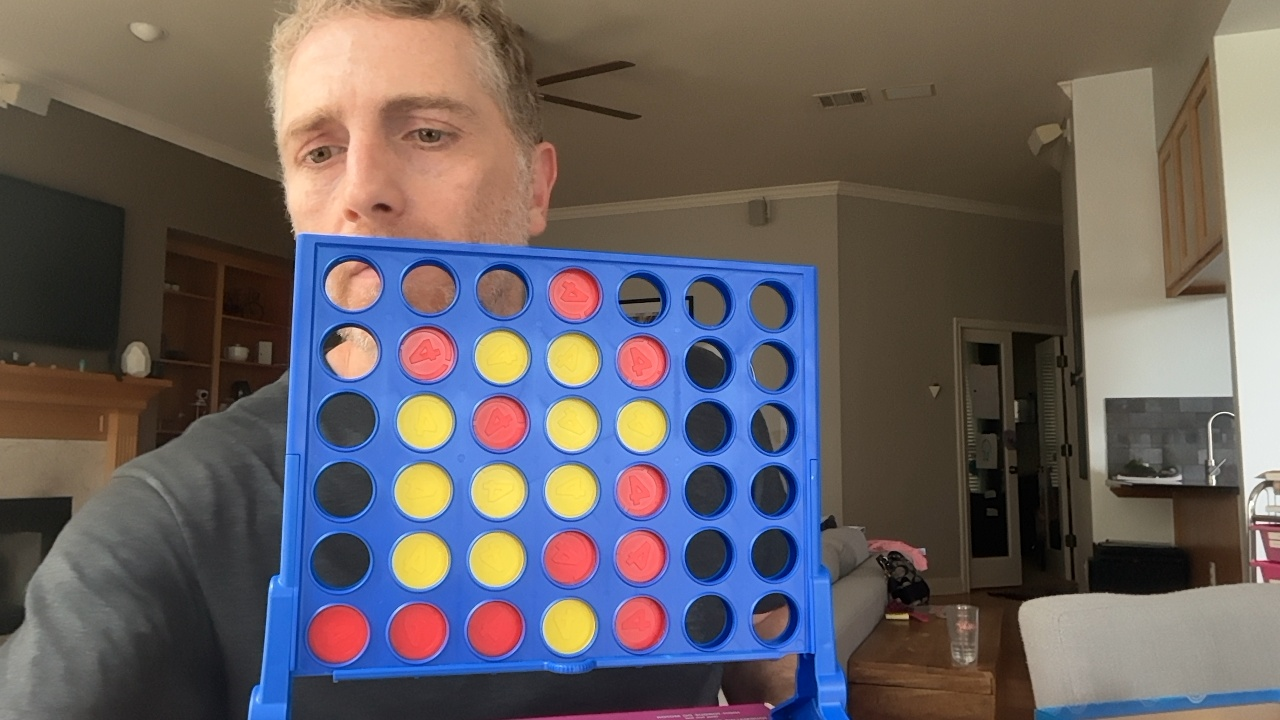red piece: (307, 605, 369, 664), (389, 603, 447, 661), (467, 601, 523, 657), (400, 327, 456, 381), (473, 396, 528, 450), (543, 531, 597, 586), (615, 597, 666, 651), (615, 530, 666, 583), (617, 335, 668, 388), (617, 464, 667, 518), (549, 268, 600, 320)
yellow piece: (391, 532, 449, 590), (394, 462, 452, 519), (469, 531, 525, 588), (471, 463, 527, 519), (542, 598, 597, 655), (397, 394, 454, 449), (545, 463, 599, 519), (475, 329, 529, 384), (547, 332, 601, 386), (547, 397, 599, 451), (617, 400, 667, 452)
